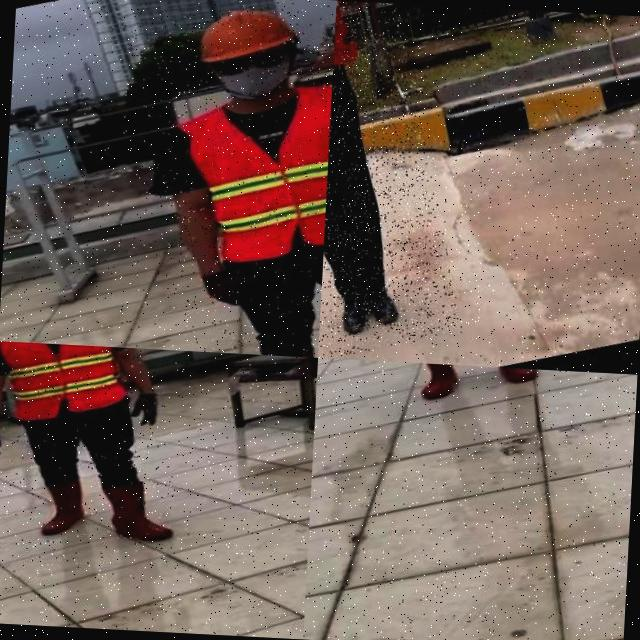boots: (104, 468, 190, 550), (28, 474, 98, 542), (408, 363, 469, 403), (362, 282, 404, 334), (334, 289, 374, 340), (476, 367, 544, 392)
helmet: (181, 0, 315, 76)
vest: (175, 71, 332, 275), (0, 341, 134, 431)
